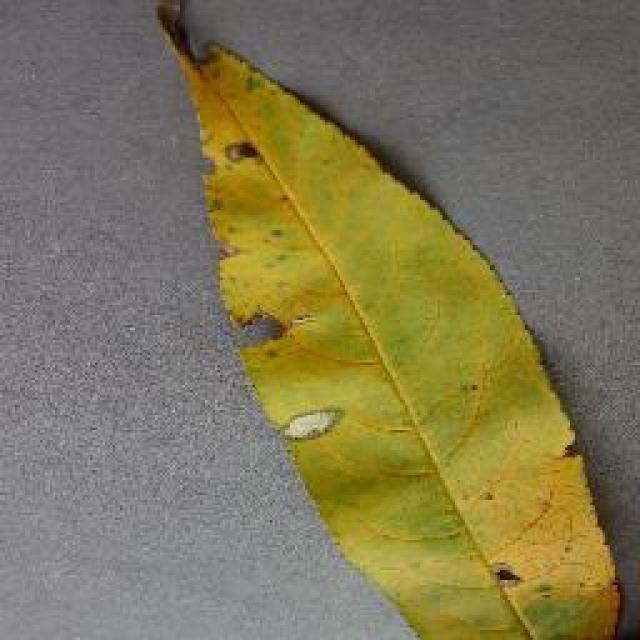Bacterial_spot: (162, 6, 410, 327), (445, 467, 622, 640)
